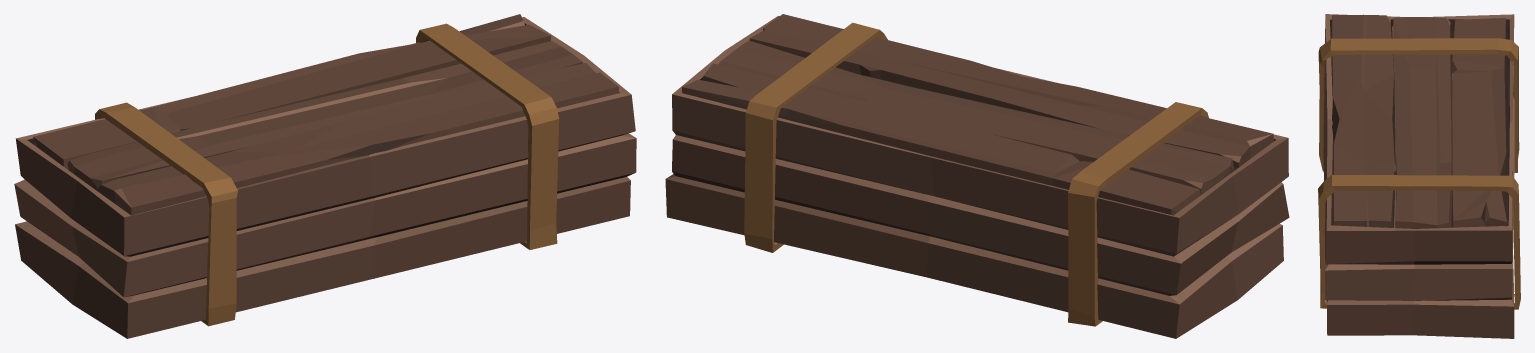
The model's file is CrateLong_01.glb.
The picture shows the model from 3 angles, left to right: view 1: azimuth 30°, elevation 25°; view 2: azimuth 150°, elevation 25°; view 3: azimuth 270°, elevation 25°; orthographic projection. The views are drawn at different scales.
Parts seen in each view (by area): view 1: CrateLong_01; view 2: CrateLong_01; view 3: CrateLong_01.
Part boxes in pixels (x1,y1,x2,y2): CrateLong_01: [14, 14, 636, 338]; CrateLong_01: [665, 14, 1289, 338]; CrateLong_01: [1318, 14, 1520, 338].
Size of what is drawn, in the model's own units: 1.99 by 0.531 by 0.7797.
1 material, 1 textured.
